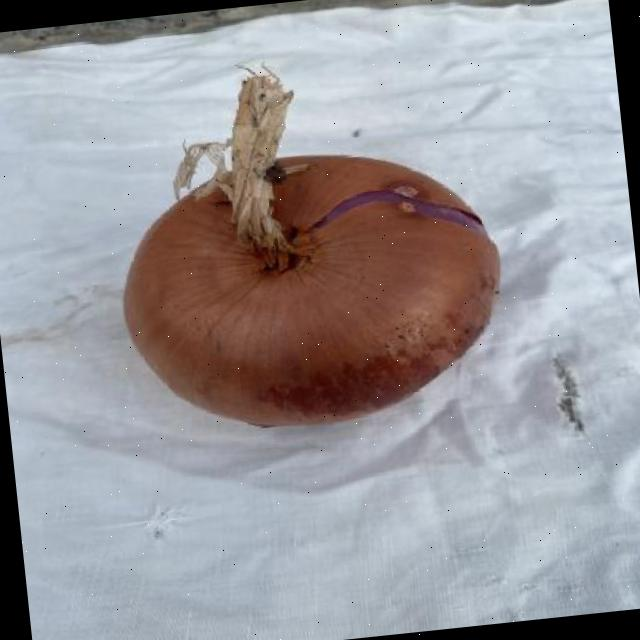Onion: (125, 66, 501, 426)
